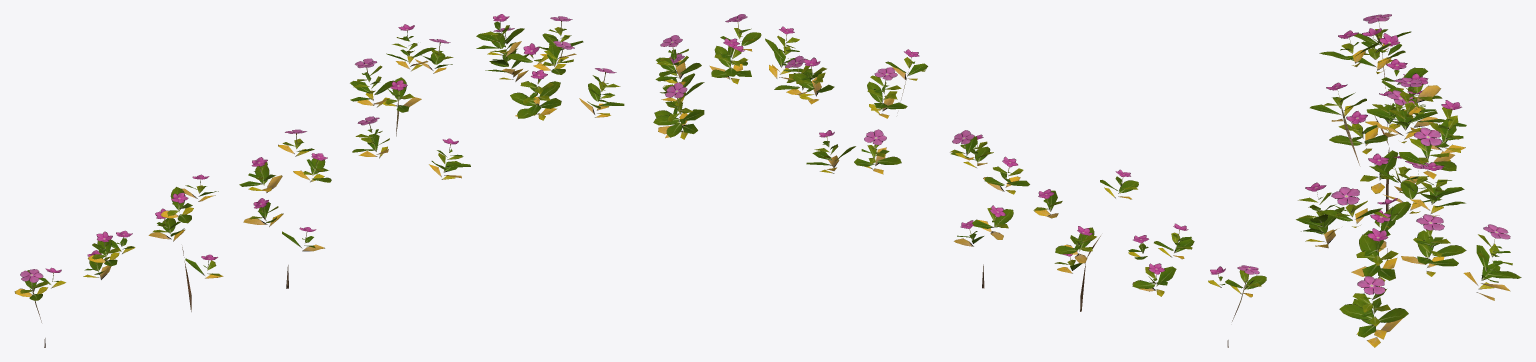
Rendered from periwinkle.glb.
3 views of the same model, side by side, from view 1: azimuth 30°, elevation 25°; view 2: azimuth 150°, elevation 25°; view 3: azimuth 270°, elevation 25° (orthographic). The views are drawn at different scales.
Parts seen in each view (by area): view 1: periwinkle_plant_01_LOD0, periwinkle_plant_02_LOD0, periwinkle_plant_03_LOD0, periwinkle_plant_04_LOD0, periwinkle_plant_05_LOD0, periwinkle_plant_06_LOD0; view 2: periwinkle_plant_01_LOD0, periwinkle_plant_02_LOD0, periwinkle_plant_03_LOD0, periwinkle_plant_04_LOD0, periwinkle_plant_05_LOD0, periwinkle_plant_06_LOD0; view 3: periwinkle_plant_01_LOD0, periwinkle_plant_02_LOD0, periwinkle_plant_03_LOD0, periwinkle_plant_04_LOD0, periwinkle_plant_05_LOD0, periwinkle_plant_06_LOD0.
Boxes of the visible parts, x1,y1,x2,y2 form: periwinkle_plant_01_LOD0: (476, 14, 624, 120); periwinkle_plant_02_LOD0: (350, 24, 470, 179); periwinkle_plant_03_LOD0: (239, 129, 331, 288); periwinkle_plant_04_LOD0: (148, 174, 223, 311); periwinkle_plant_05_LOD0: (83, 230, 135, 279); periwinkle_plant_06_LOD0: (14, 267, 65, 347); periwinkle_plant_01_LOD0: (653, 14, 807, 139); periwinkle_plant_02_LOD0: (774, 49, 927, 174); periwinkle_plant_03_LOD0: (950, 130, 1029, 288); periwinkle_plant_04_LOD0: (1033, 169, 1138, 311); periwinkle_plant_05_LOD0: (1128, 223, 1194, 296); periwinkle_plant_06_LOD0: (1208, 265, 1266, 347); periwinkle_plant_01_LOD0: (1296, 162, 1521, 347); periwinkle_plant_02_LOD0: (1310, 77, 1466, 286); periwinkle_plant_03_LOD0: (1329, 90, 1428, 259); periwinkle_plant_04_LOD0: (1319, 30, 1444, 211); periwinkle_plant_05_LOD0: (1346, 28, 1442, 98); periwinkle_plant_06_LOD0: (1354, 14, 1411, 126).
Bounding box in the file's own units: 1.24 × 0.4107 × 0.3207.
Materials: 1 (1 with a texture image).
